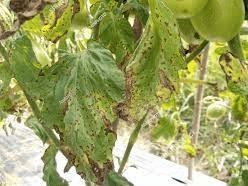Bacterial Spot: (27, 37, 128, 185), (123, 0, 189, 121)
